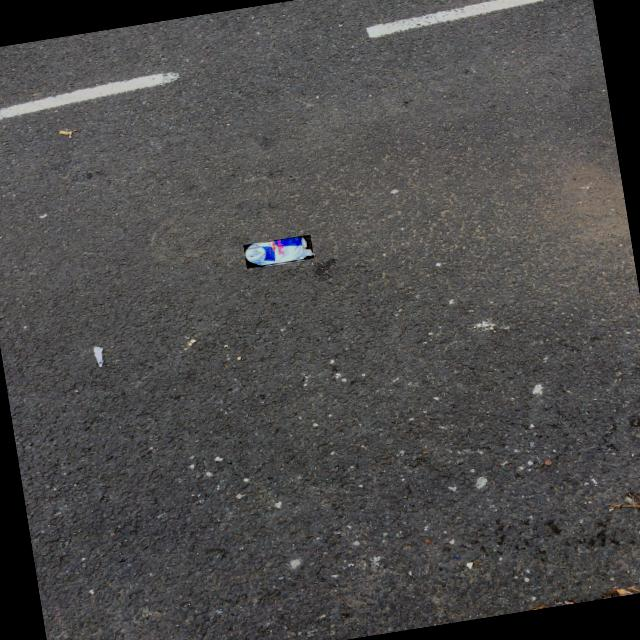Drink can: (246, 238, 314, 266)
Unlabeled litter: (94, 347, 104, 367)
